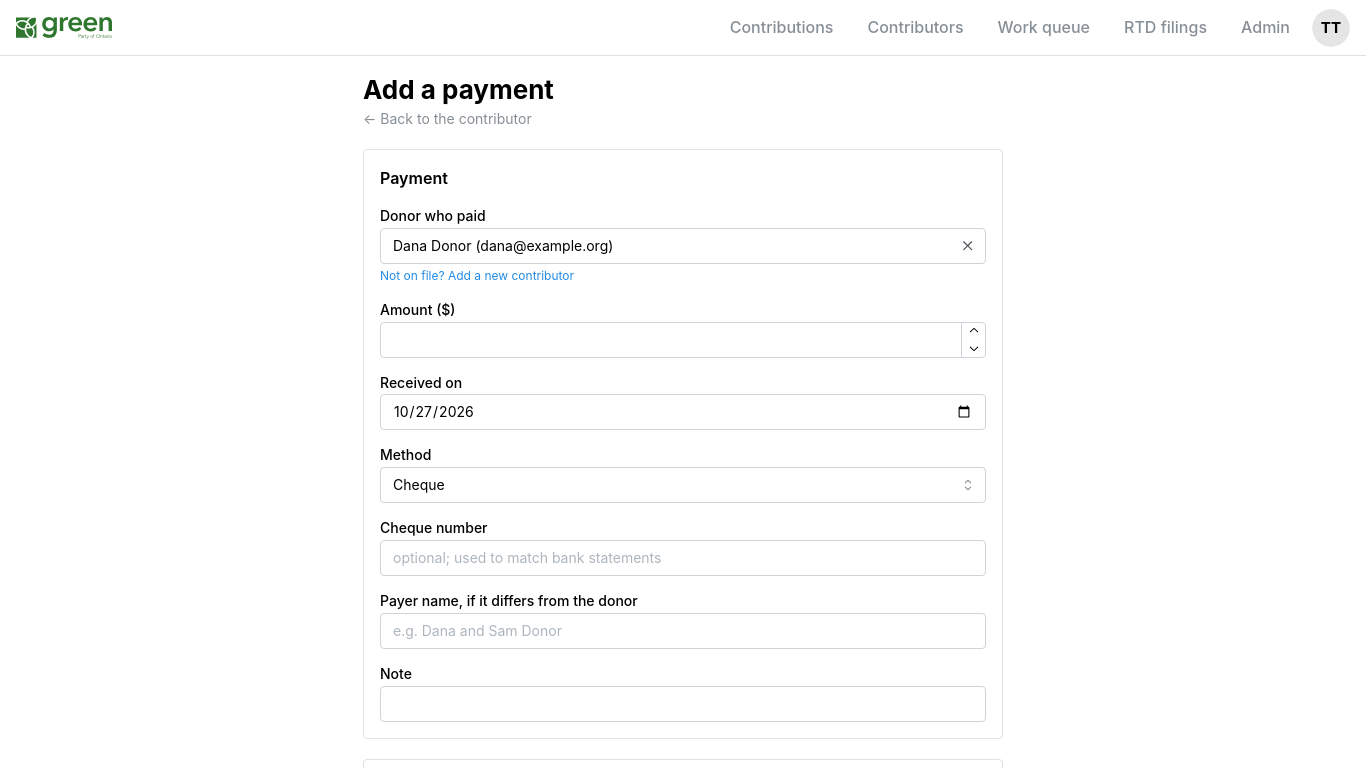
Test: a contributor's Add a payment fills in the donor and the entity of their latest contribution
In the field labelled "Amount ($)": [683, 340] box [380,322,986,358], type "25"
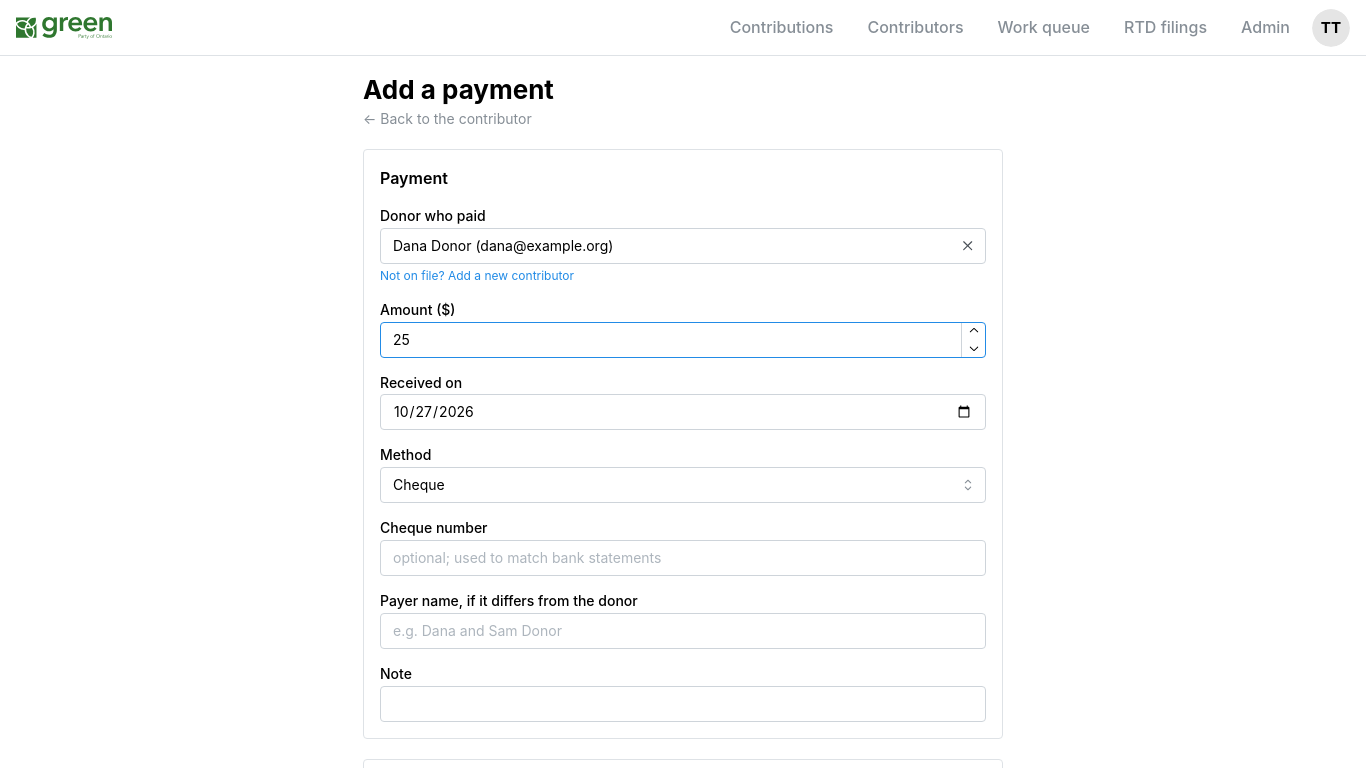
In the date field labelled "Received on": [683, 412] box [380,394,986,430], type "2026-04-10"
(page scrolled)
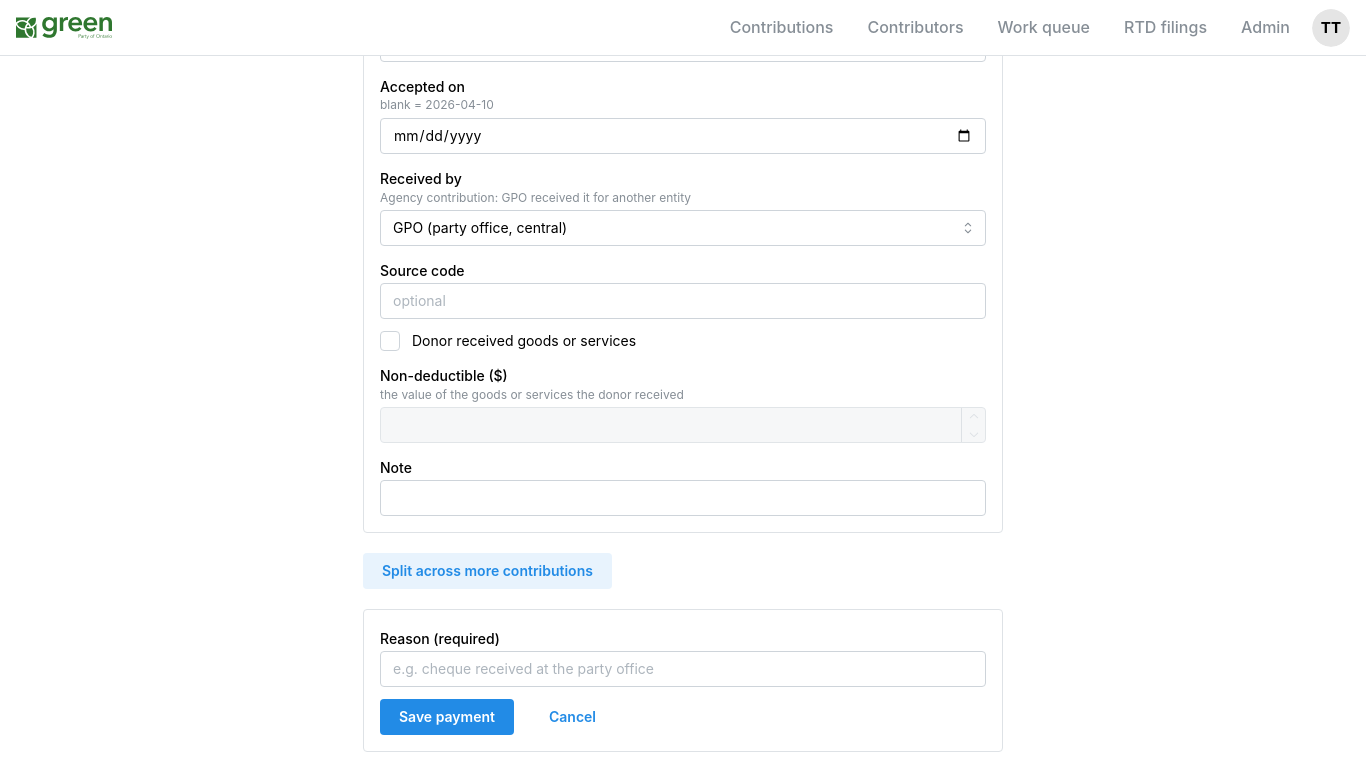
In the field labelled "Reason (required)": [683, 669] box [380,651,986,687], type "cheque at the office"
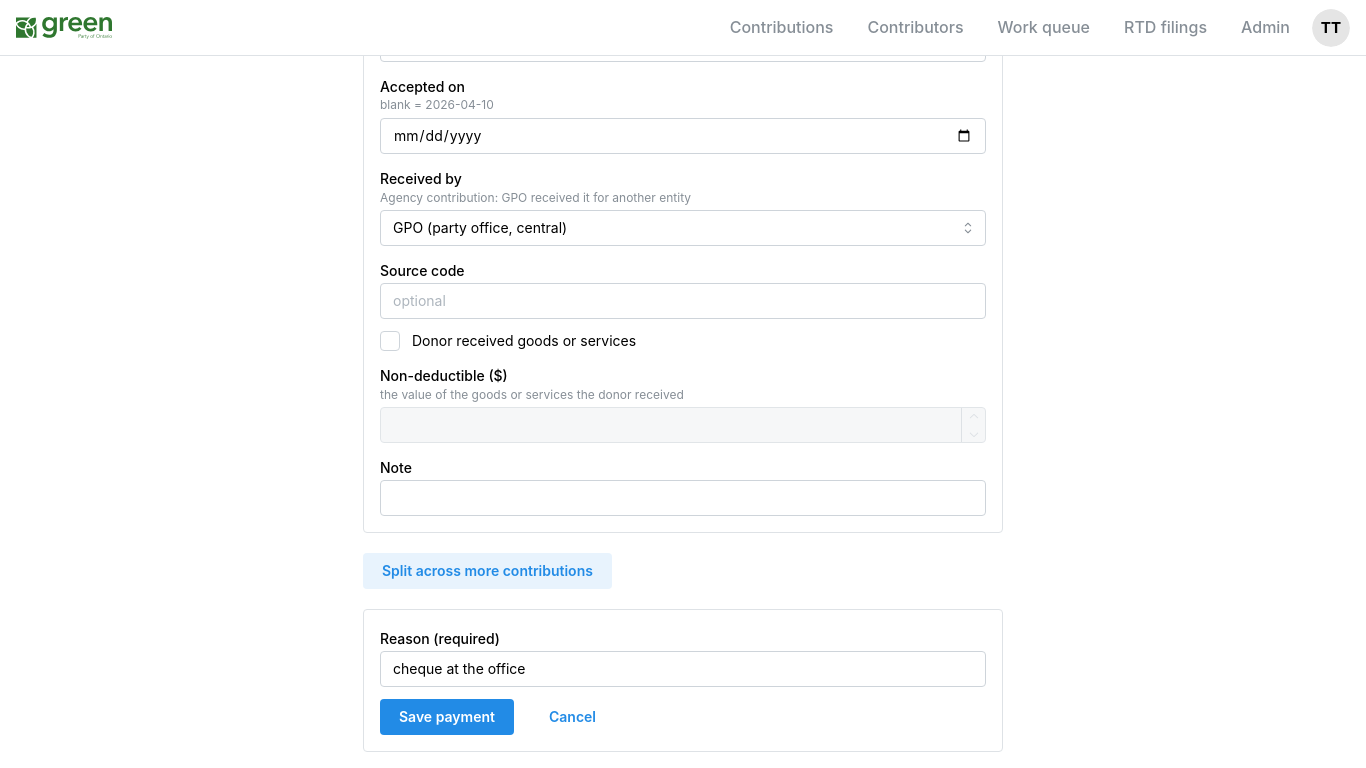
Click the button "Save payment": [447, 717] box [380,699,514,735]
(page scrolled)
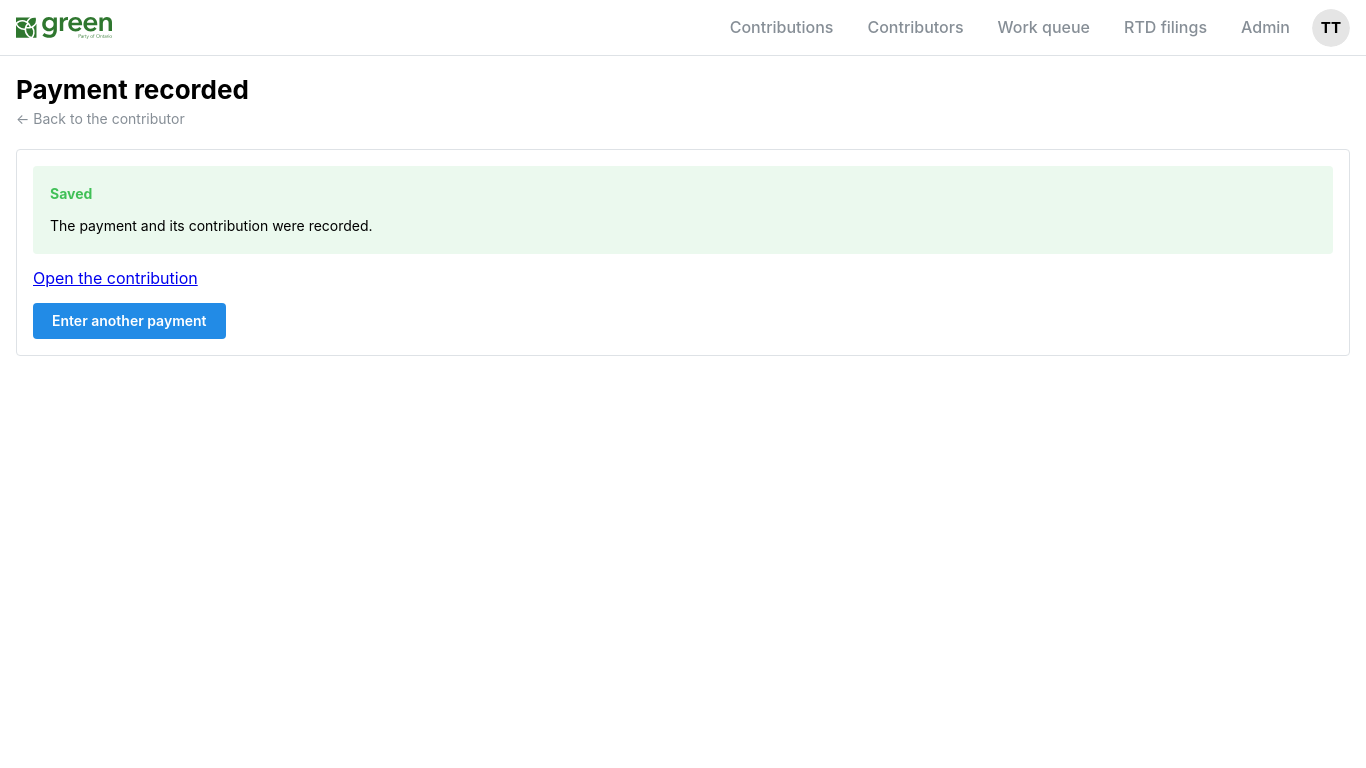
Result: the heading "Payment recorded" is shown at [16,74,249,105]
